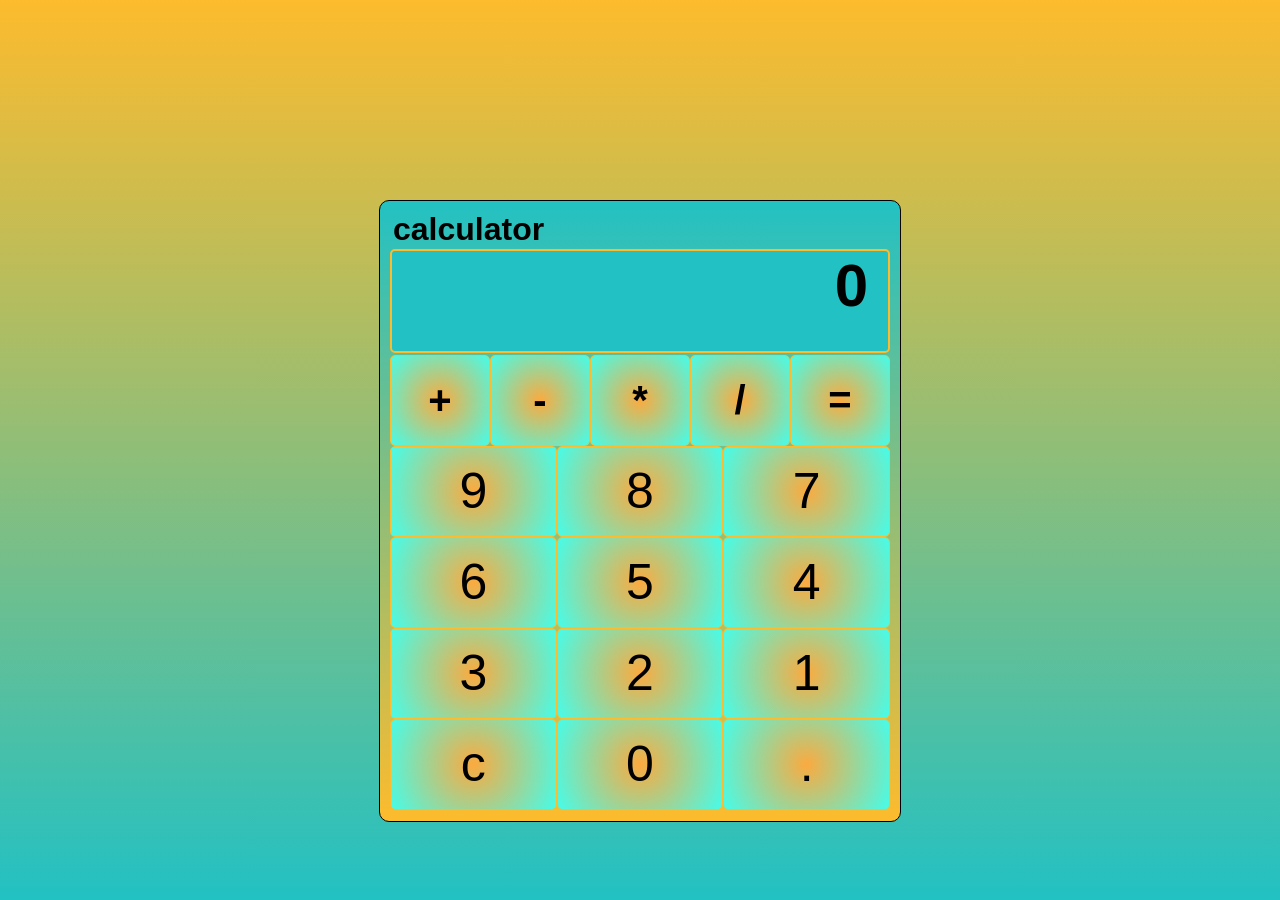
Scenario: display calculations › display when the user enters the calulation
The width and height of the screenshot is (1280, 900).
Click the button "6" at (473, 582), box 390,537 -> 557,628
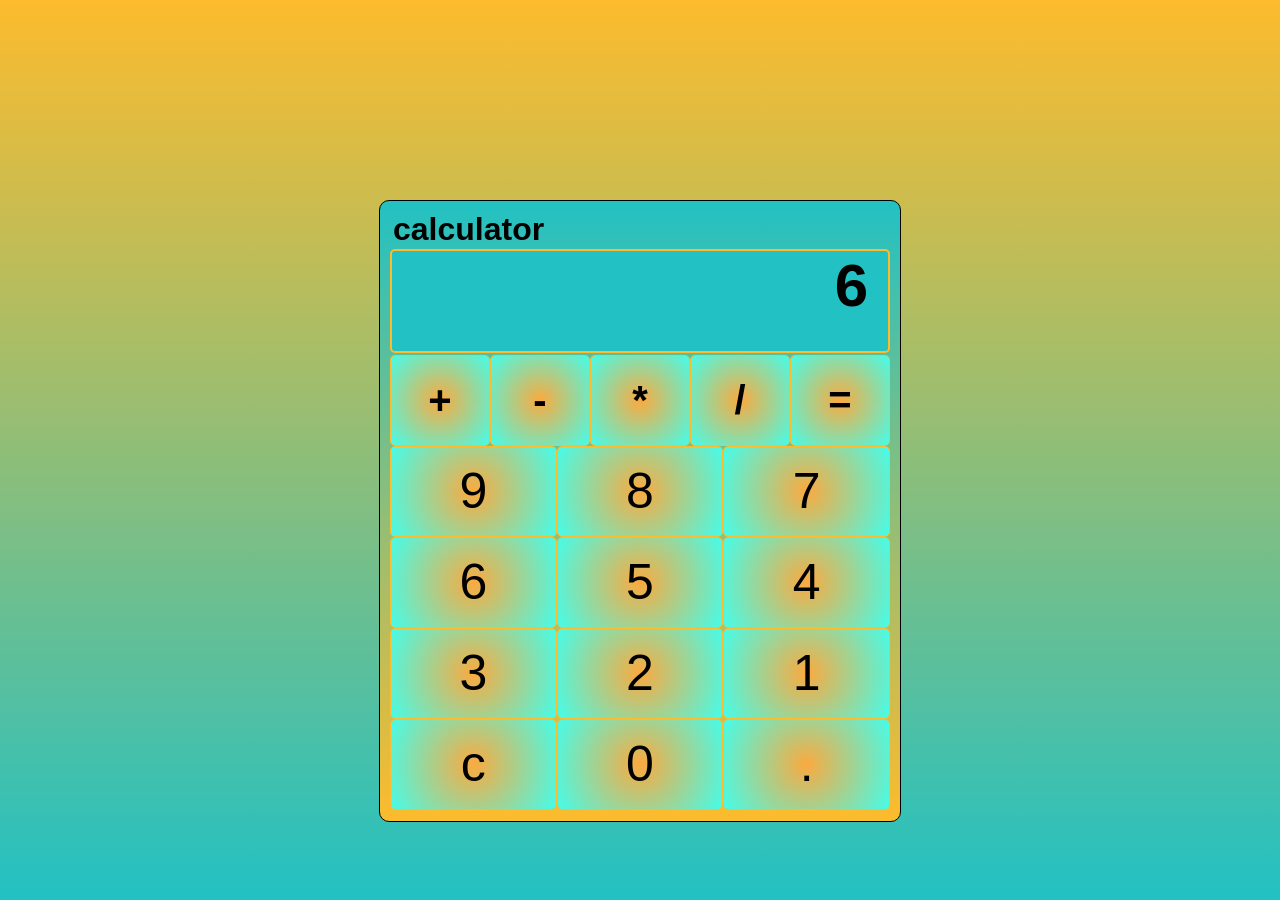
Click the button "/" at (740, 400), box 690,355 -> 790,446
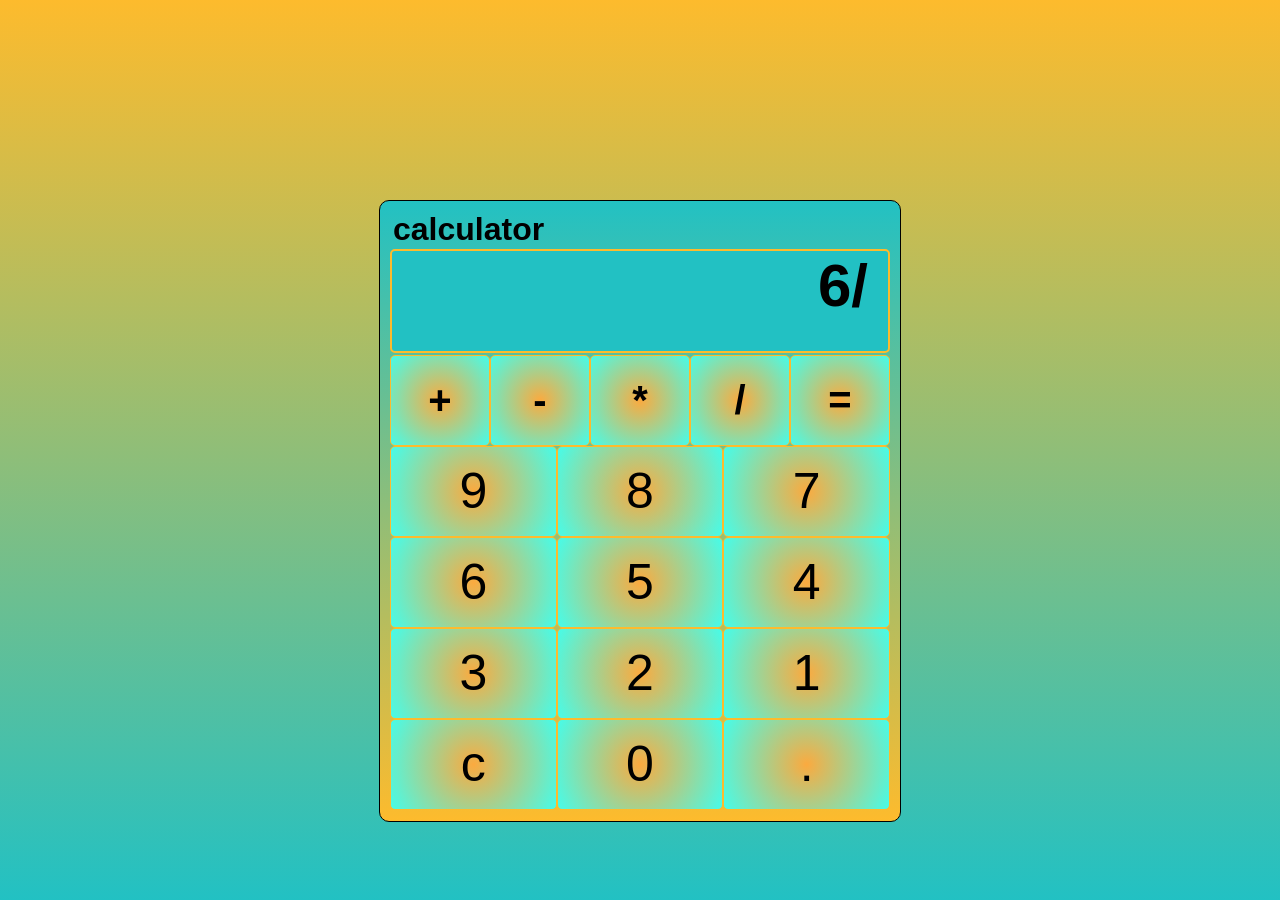
Click the button "2" at (640, 673), box 557,628 -> 723,719
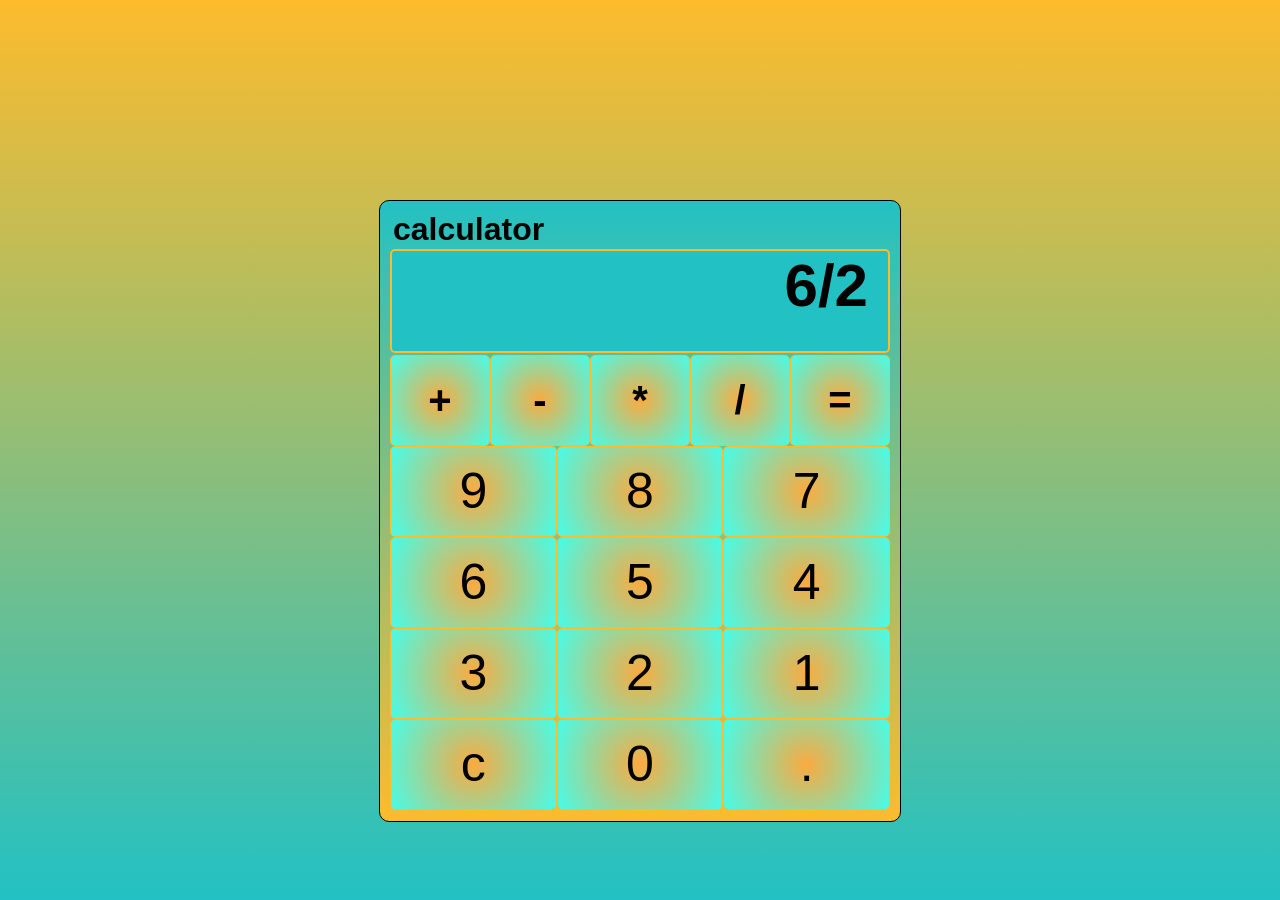
Click the button "=" at (840, 400), box 790,355 -> 890,446
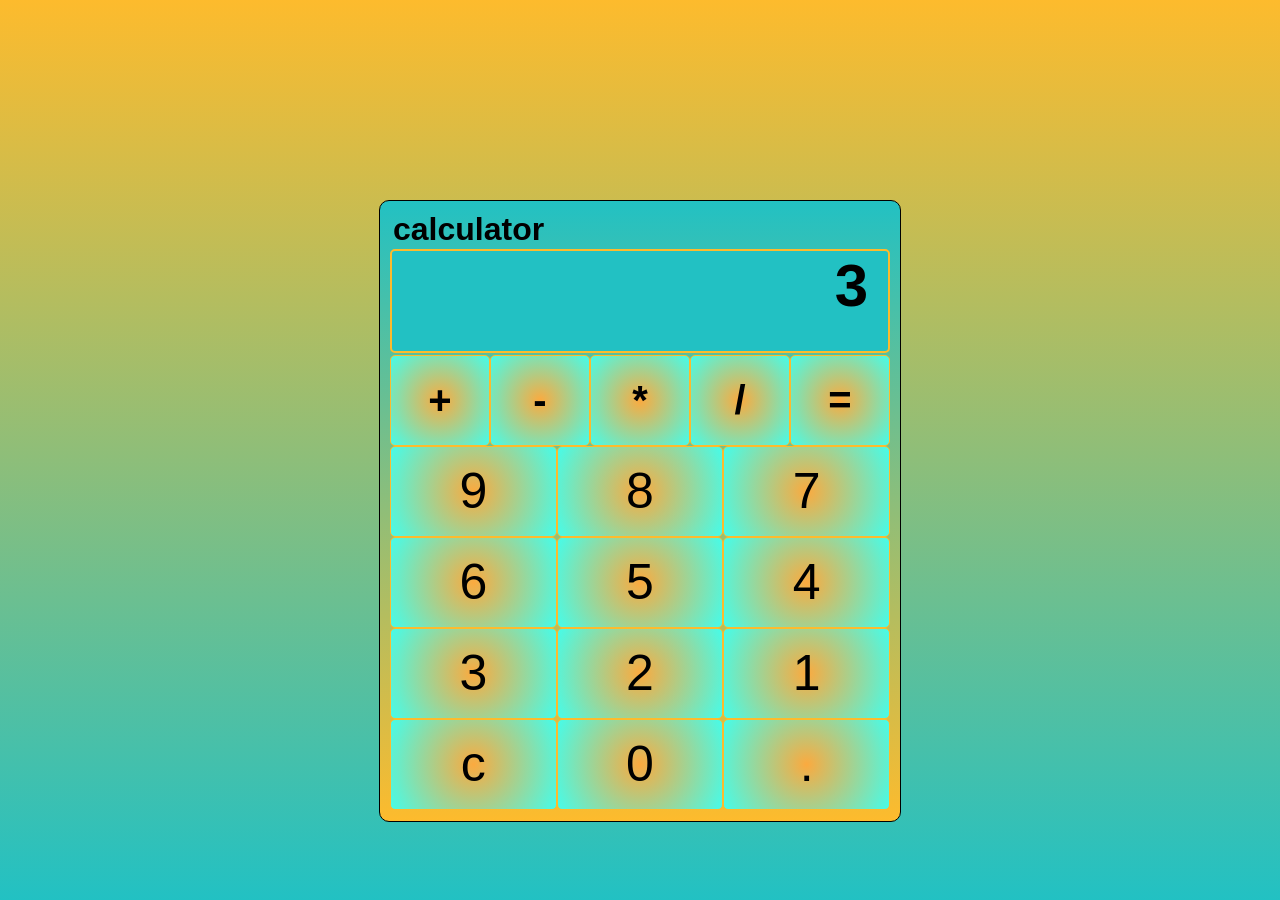
Now the heading with test id "display" reads "3", box 835,252 -> 868,319
